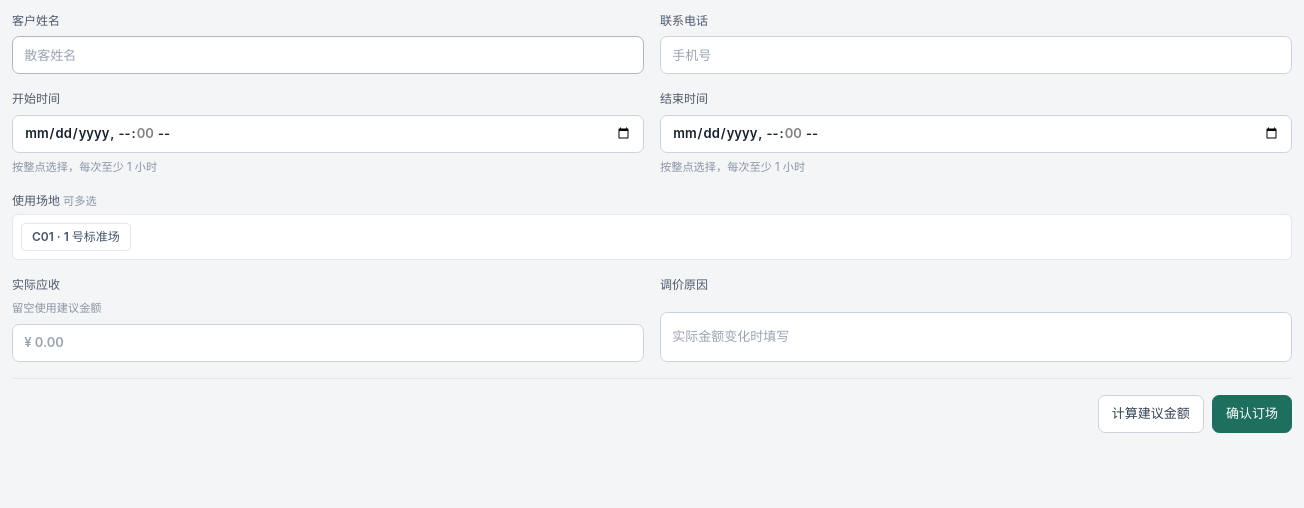
Scenario: operations forms › uses hourly inputs and blocks an invalid range in red
In the field labelled "客户姓名": [328, 55] box [12,36,644,74], type "测试客户"
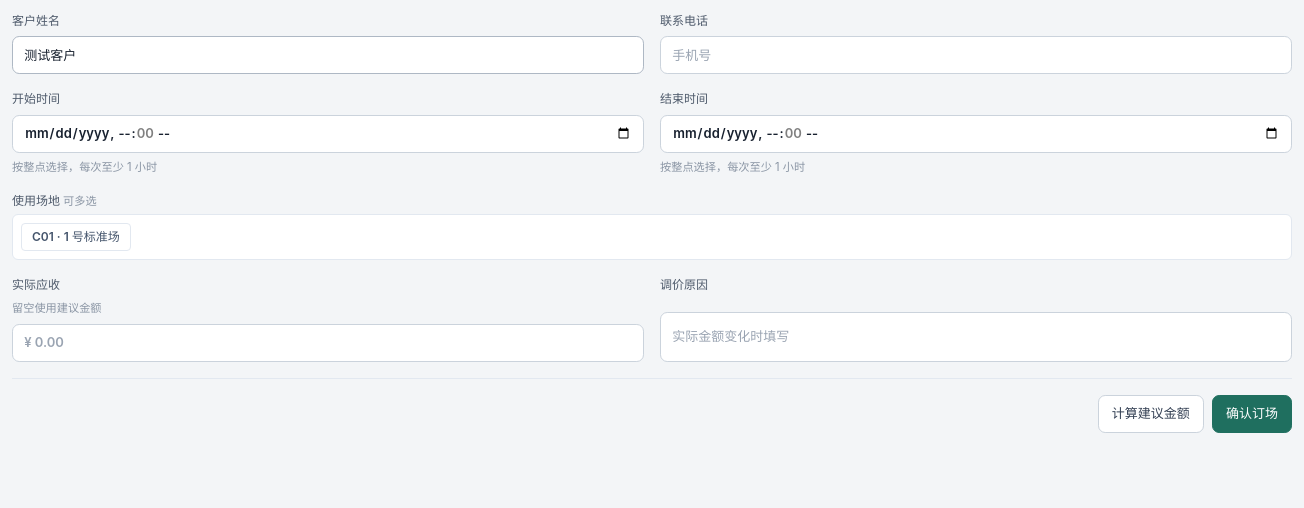
Click the button "C01 · 1 号标准场": [76, 237] box [21,223,131,251]
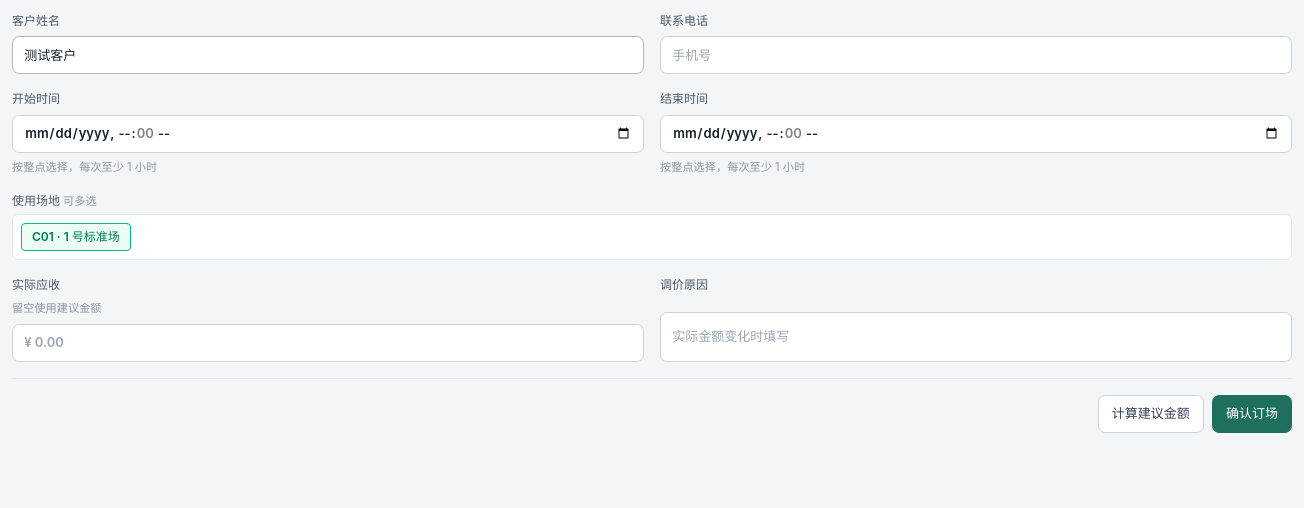
In the field labelled "开始时间 按整点选择，每次至少 1 小时": [328, 134] box [12,115,644,153], type "2099-08-01T15:00"
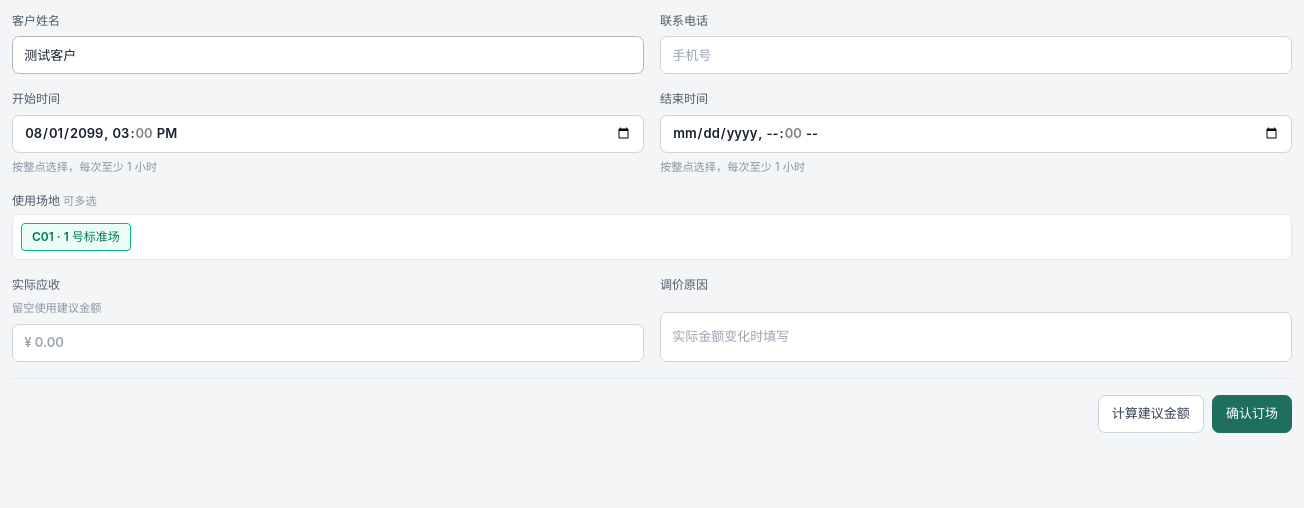
In the field labelled "结束时间 按整点选择，每次至少 1 小时": [976, 134] box [660,115,1292,153], type "2099-08-01T14:00"
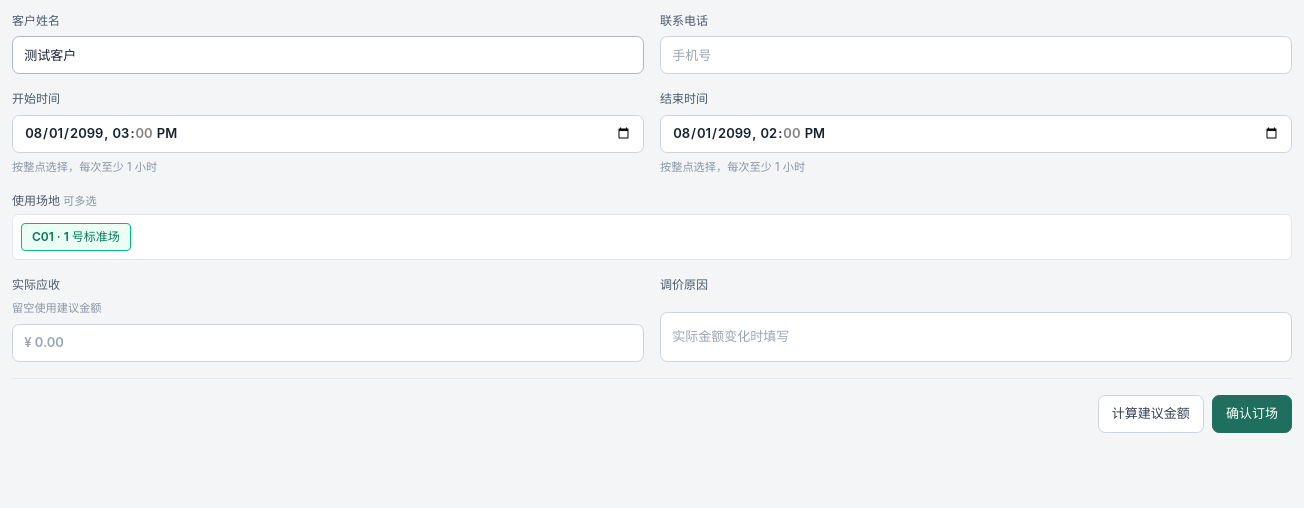
Click the button "确认订场": [1252, 414] box [1212,394,1292,432]
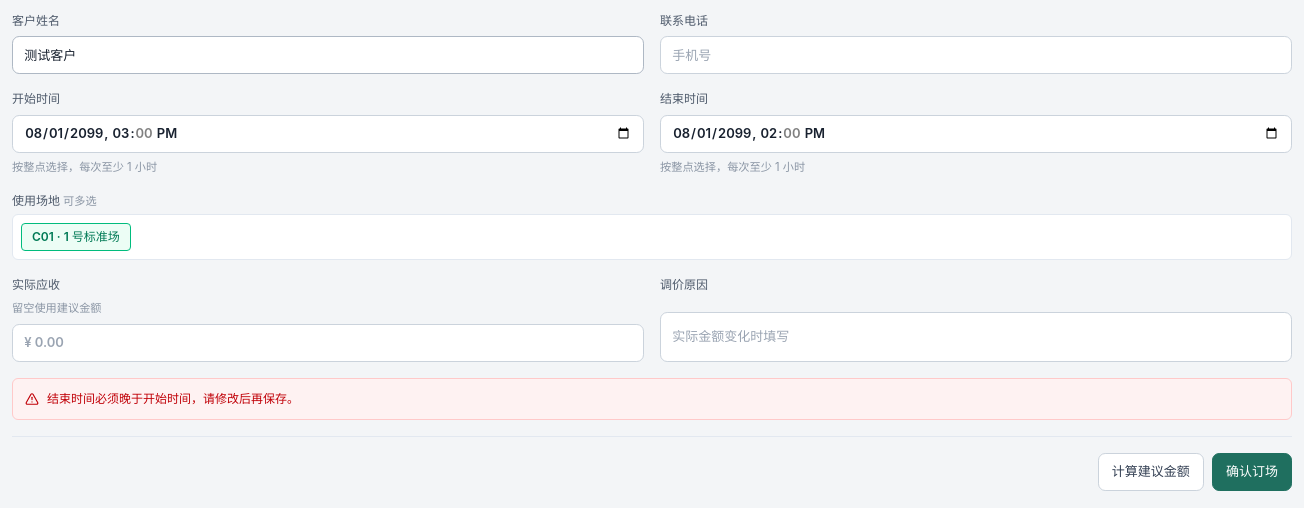
Now the message shows "结束时间必须晚于开始时间", box [47,390,191,406]
